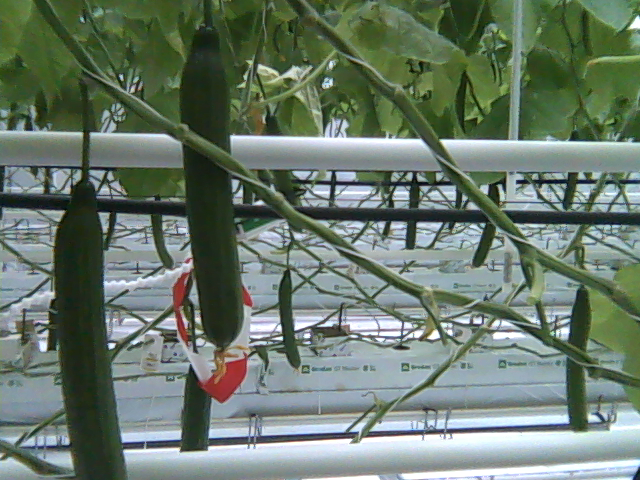concombre: (177, 10, 243, 384), (51, 176, 132, 480)
